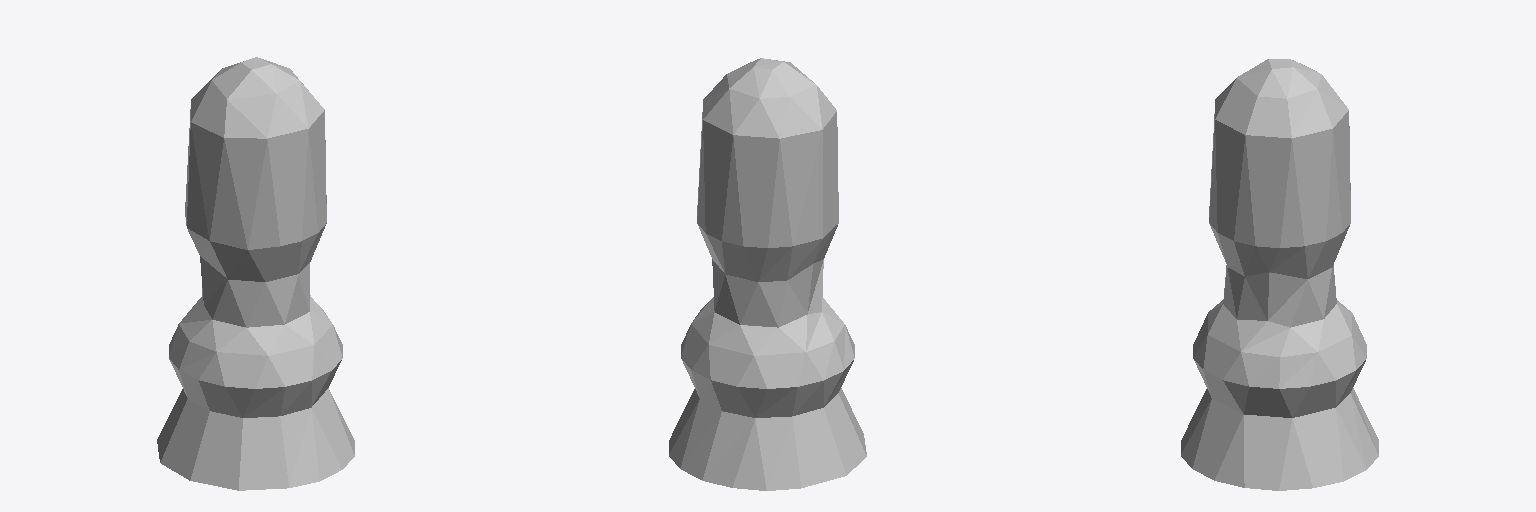
The model's file is light_8.obj.
The picture shows the model from 3 angles: view 1: azimuth 30°, elevation 25°; view 2: azimuth 150°, elevation 25°; view 3: azimuth 270°, elevation 25°; orthographic projection.
Visible parts, largest first — view 1: Cylinder001.007_Untitled.015; view 2: Cylinder001.007_Untitled.015; view 3: Cylinder001.007_Untitled.015.
Boxes of the visible parts, x1,y1,x2,y2 form: Cylinder001.007_Untitled.015: [157, 57, 354, 490]; Cylinder001.007_Untitled.015: [669, 58, 866, 490]; Cylinder001.007_Untitled.015: [1181, 59, 1378, 490].
Bounding box in the file's own units: 0.2348 × 0.4952 × 0.2317.